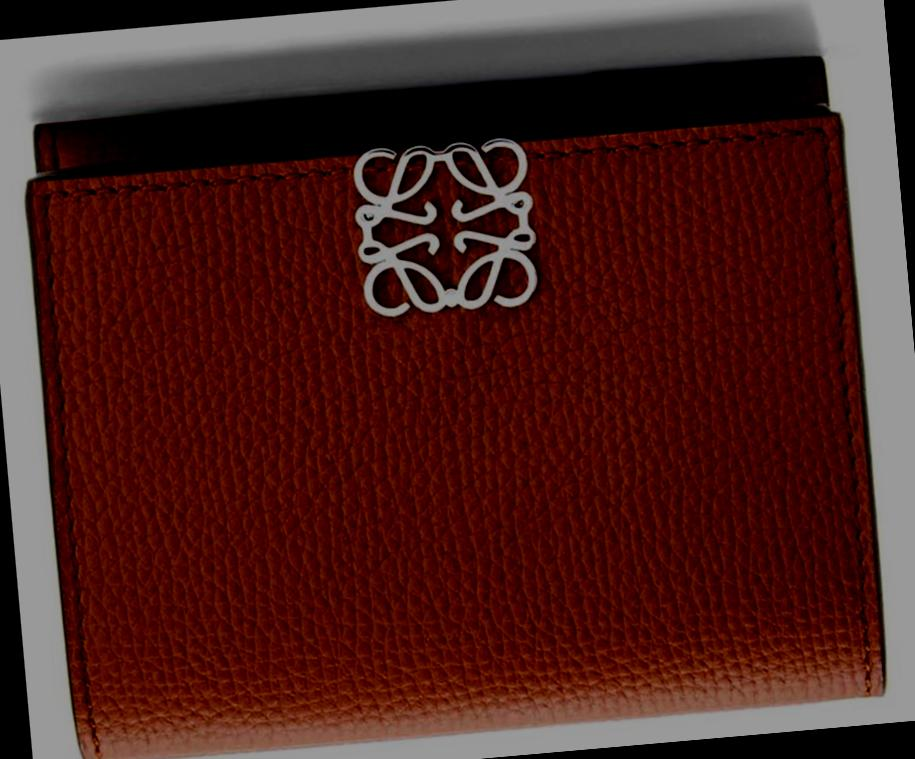LOEWE: (332, 117, 554, 337)
